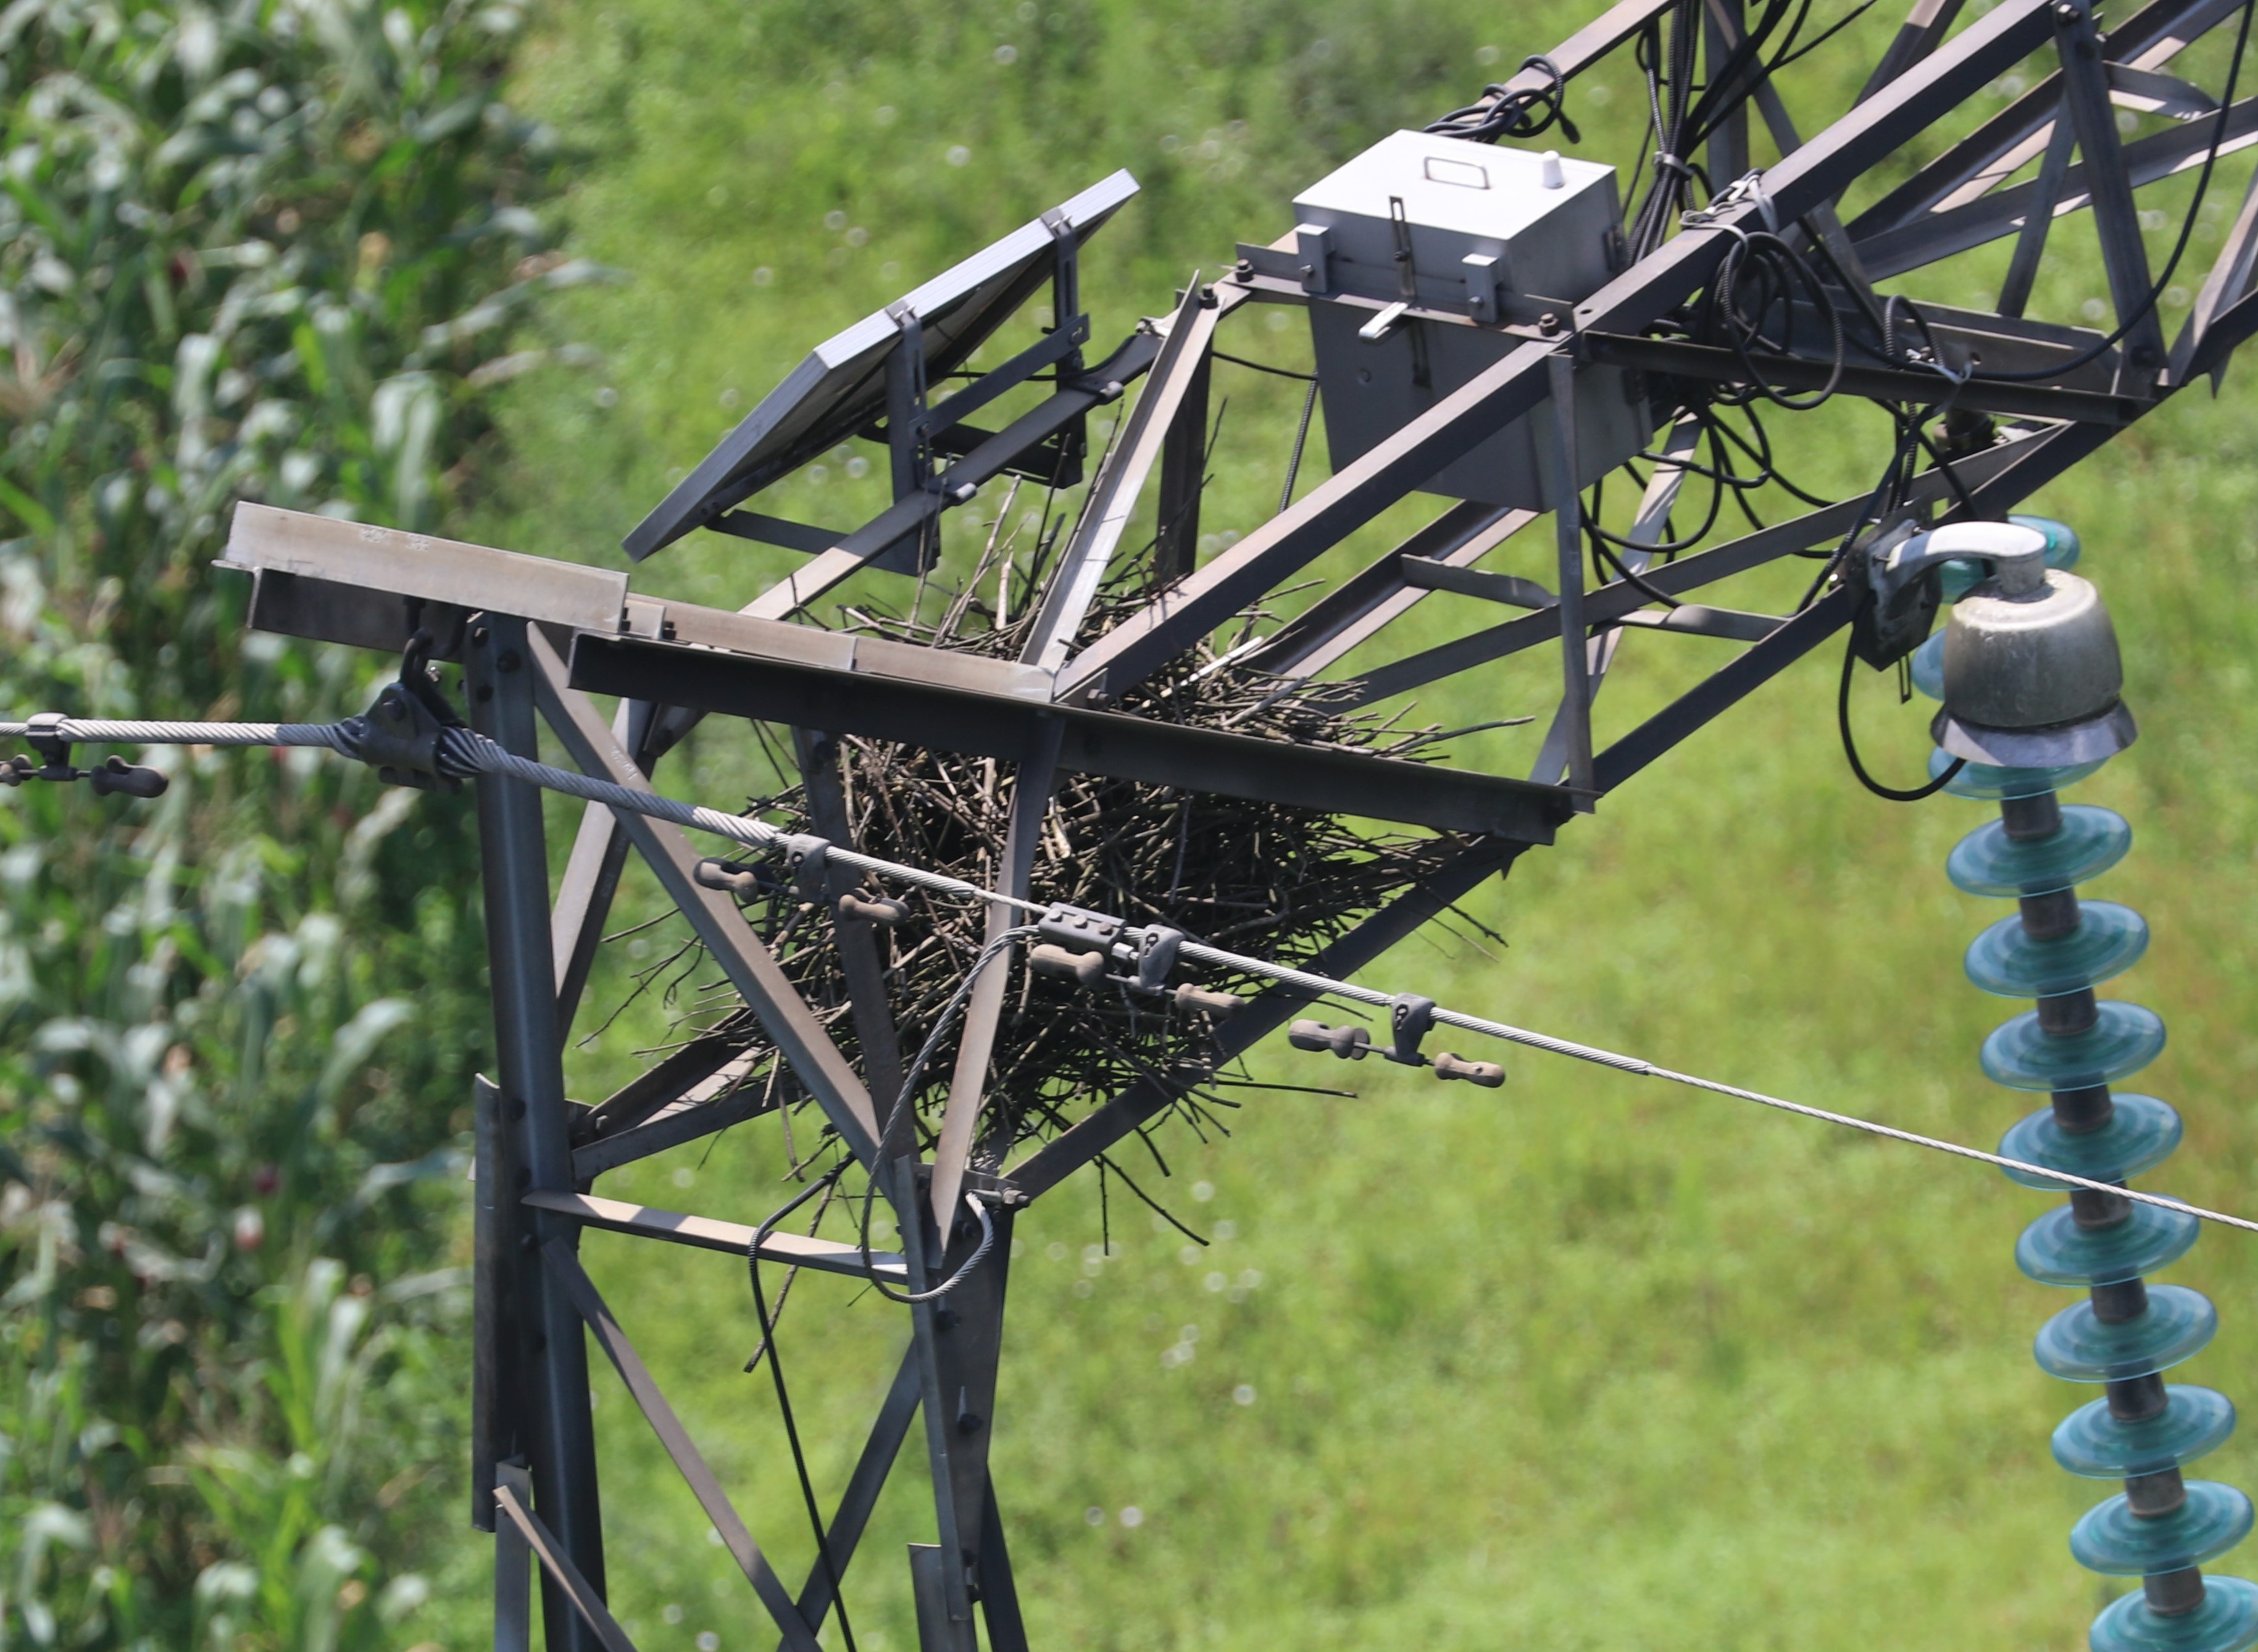niaowo: (750, 552, 1406, 1145)
